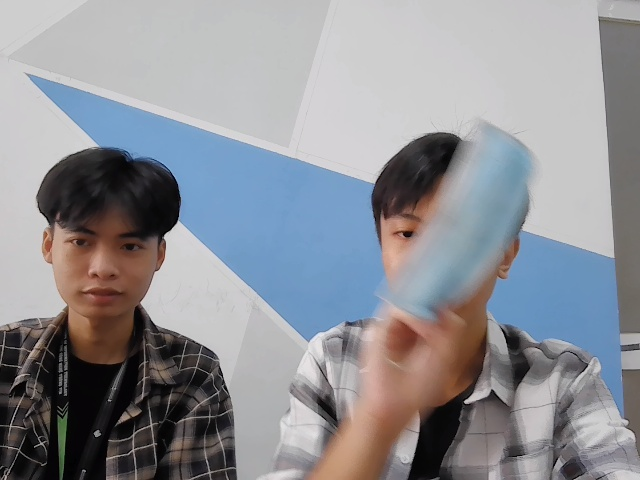human: (33, 143, 182, 320)
